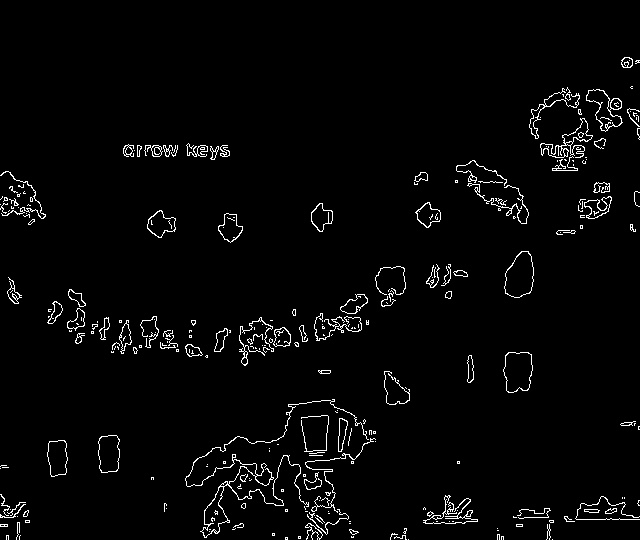down: (213, 209, 249, 251)
left: (137, 204, 183, 248), (302, 199, 340, 239), (408, 197, 446, 234)
